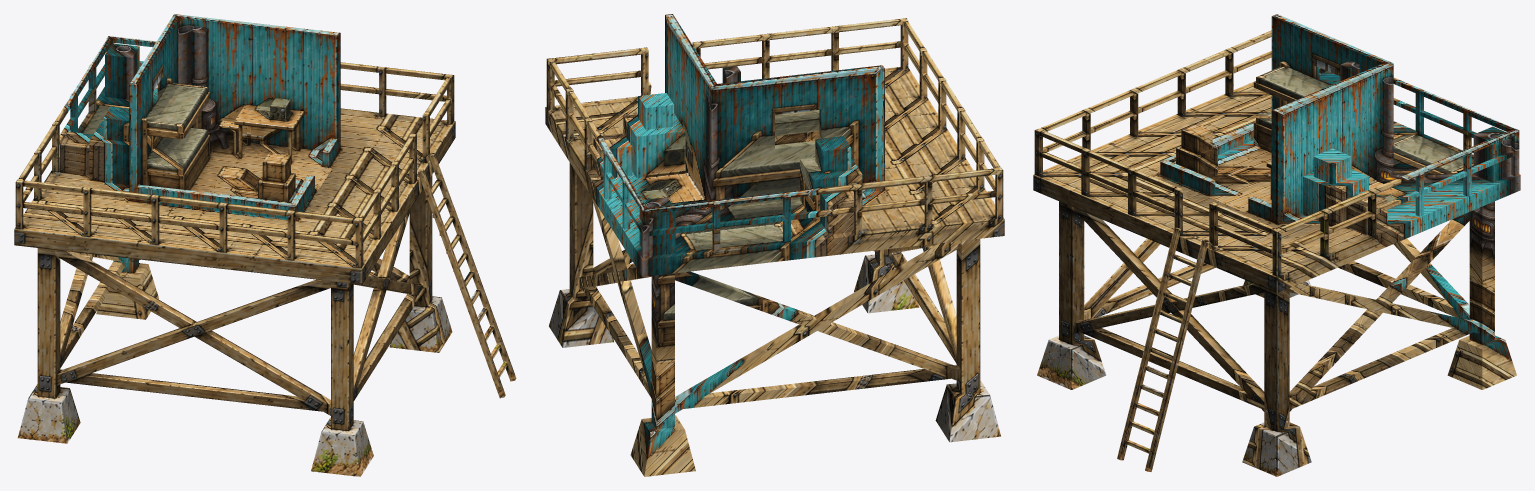
File: tower_cut.glb
3 views of the same model, side by side, from view 1: azimuth 30°, elevation 25°; view 2: azimuth 150°, elevation 25°; view 3: azimuth 270°, elevation 25° (orthographic). The views are drawn at different scales.
Parts seen in each view (by area): view 1: tower_cut_game; view 2: tower_cut_game; view 3: tower_cut_game.
Part boxes in pixels (<box>): tower_cut_game: <box>14,14,516,476</box>; tower_cut_game: <box>545,14,1004,476</box>; tower_cut_game: <box>1033,14,1520,476</box>.
Bounding box in the file's own units: 9.9 × 7 × 9.9.
Materials: 1 (1 with a texture image).
